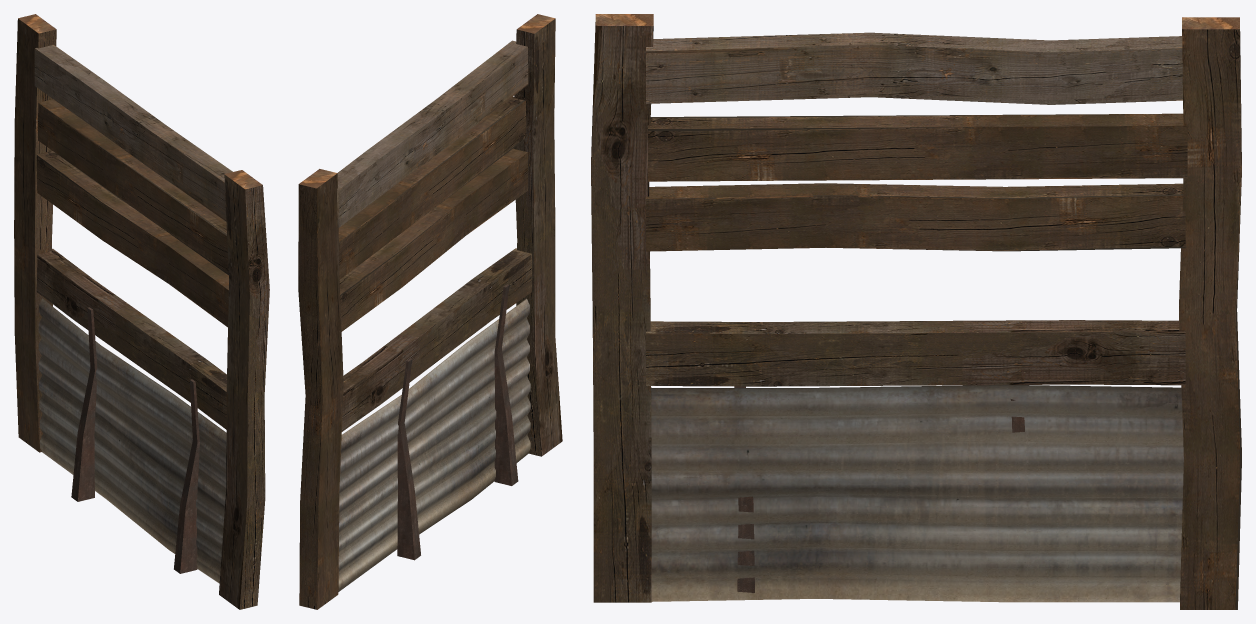
Rendered from trench-decor4.fbx.
3 renders of one model, left to right at view 1: azimuth 30°, elevation 25°; view 2: azimuth 150°, elevation 25°; view 3: azimuth 270°, elevation 25°, orthographic. The views are drawn at different scales.
Visible parts, largest first — view 1: Plane011, Box099, Box095, Box098, Box096, Box097, Box101, Box107, Box108; view 2: Plane011, Box095, Box099, Box098, Box096, Box097, Box101, Box107, Box108; view 3: Plane011, Box101, Box097, Box096, Box098, Box095, Box099, Box108.
Part boxes in pixels (x1,y1,x2,y2): Plane011: (38,298,226,583); Box099: (219,170,269,609); Box095: (14,14,56,452); Box098: (34,44,232,221); Box096: (36,248,226,429); Box097: (36,150,228,327); Box101: (38,99,228,275); Box107: (71,307,97,501); Box108: (174,379,199,573); Plane011: (338,298,530,591); Box095: (298,169,343,609); Box099: (513,14,562,456); Box098: (337,40,528,227); Box096: (342,248,531,431); Box097: (339,148,528,331); Box101: (338,96,526,279); Box107: (397,358,420,560); Box108: (494,284,518,485); Plane011: (651,385,1183,602); Box101: (648,113,1187,181); Box097: (646,183,1185,251); Box096: (646,320,1185,386); Box098: (646,32,1182,104); Box095: (1179,17,1241,609); Box099: (591,14,653,602); Box108: (734,386,754,592).
Bounding box in the file's own units: 41.47 × 373 × 377.
